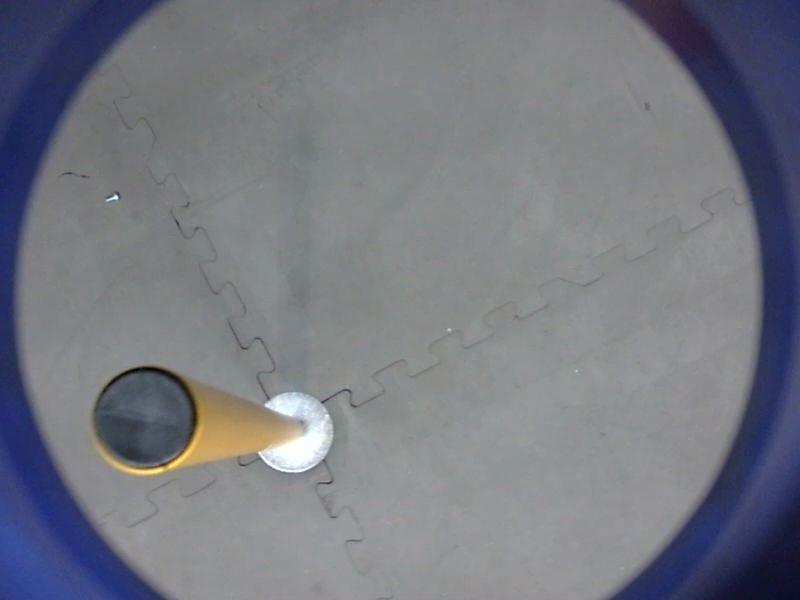tip: (83, 359, 209, 483)
